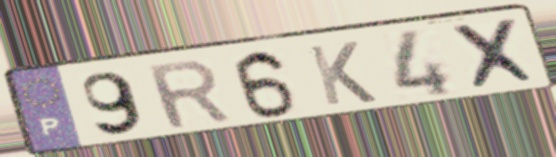4: (388, 27, 459, 99)
6: (229, 48, 299, 120)
9: (80, 70, 145, 137)
K: (303, 39, 380, 108)
R: (142, 56, 236, 133)
X: (445, 16, 545, 93)
